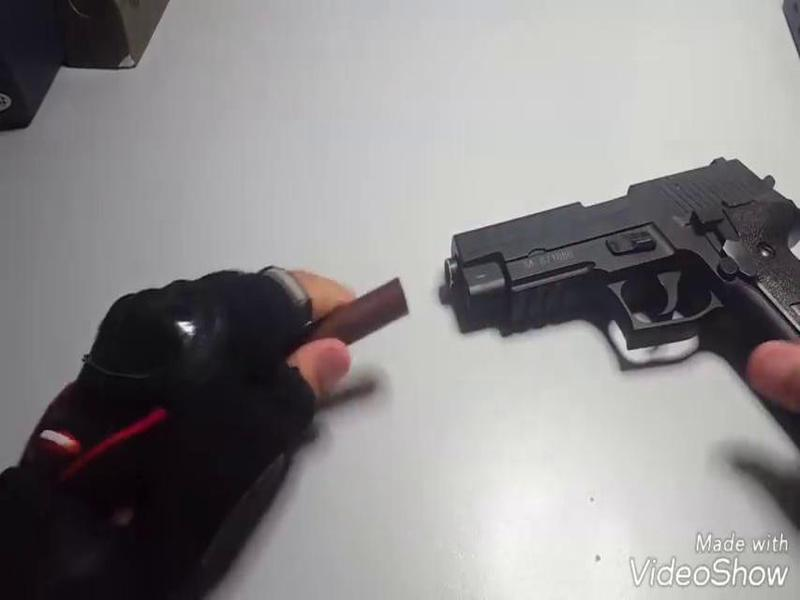Pistola: (411, 151, 800, 420)
